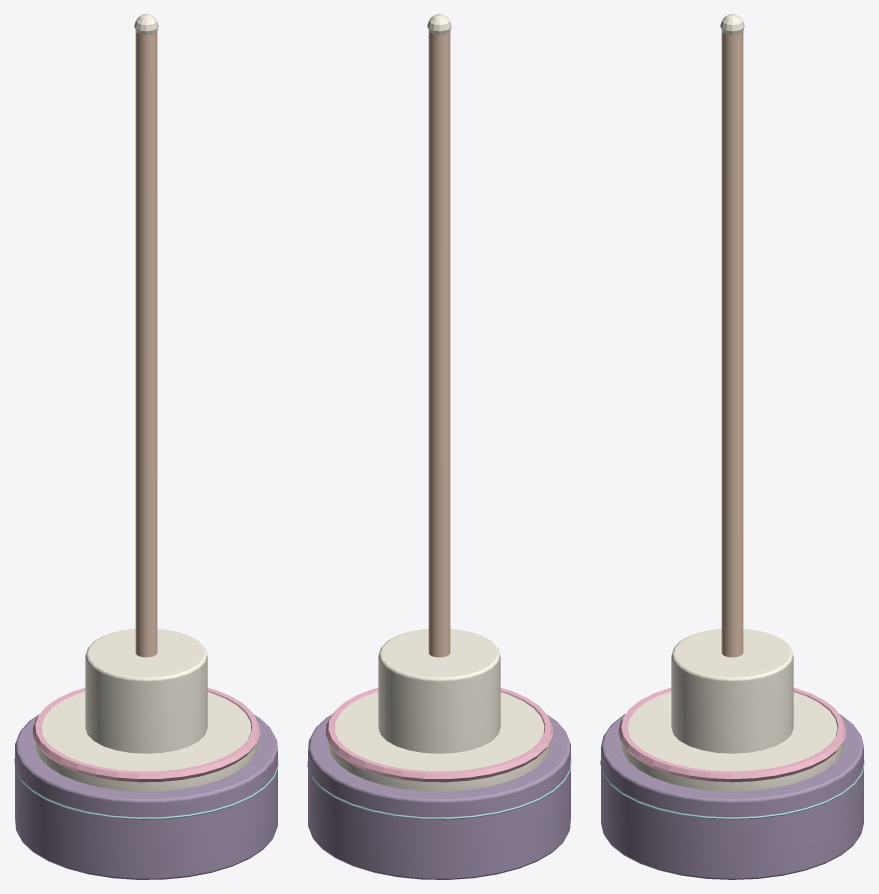
File: Spinner.fbx
3 renders of one model, left to right at view 1: azimuth 30°, elevation 25°; view 2: azimuth 150°, elevation 25°; view 3: azimuth 270°, elevation 25°, orthographic.
Visible parts, largest first — view 1: Pedestal, CenterStick, DriveHousing, PedestalTop, PinkRing, SodaRing; view 2: Pedestal, CenterStick, DriveHousing, PedestalTop, PinkRing, SodaRing; view 3: Pedestal, CenterStick, DriveHousing, PedestalTop, PinkRing, SodaRing.
Part boxes in pixels (left/top/right/bottom): Pedestal: left=15, top=715, right=277, bottom=879; CenterStick: left=135, top=31, right=157, bottom=657; DriveHousing: left=85, top=629, right=207, bottom=753; PedestalTop: left=35, top=692, right=257, bottom=791; PinkRing: left=32, top=688, right=260, bottom=782; SodaRing: left=14, top=758, right=278, bottom=819; Pedestal: left=308, top=715, right=570, bottom=879; CenterStick: left=428, top=31, right=450, bottom=657; DriveHousing: left=378, top=629, right=500, bottom=753; PedestalTop: left=328, top=692, right=550, bottom=791; PinkRing: left=325, top=688, right=553, bottom=782; SodaRing: left=307, top=758, right=571, bottom=819; Pedestal: left=601, top=714, right=863, bottom=879; CenterStick: left=721, top=31, right=743, bottom=657; DriveHousing: left=671, top=629, right=793, bottom=753; PedestalTop: left=621, top=692, right=843, bottom=791; PinkRing: left=618, top=687, right=846, bottom=782; SodaRing: left=600, top=760, right=864, bottom=819.
Size of the model in its own units: 195 by 659 by 195.
